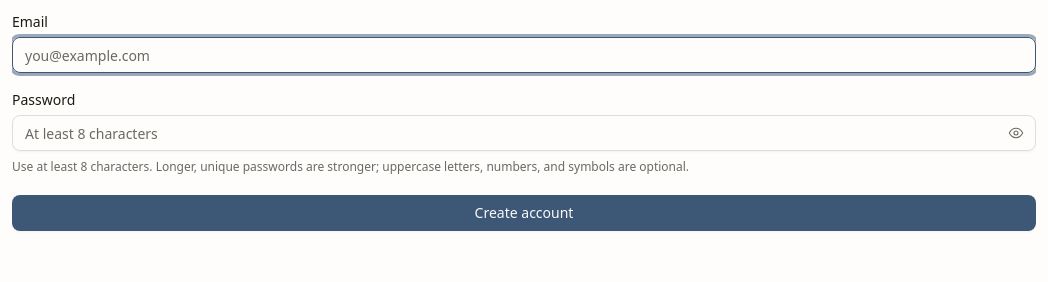
Test case: SignupForm › shows live password-strength feedback without imposing composition rules
The image size is (1048, 282).
Type "password" into the password field labelled "Password" at (524, 133), box top-left (12, 115), bottom-right (1036, 151)
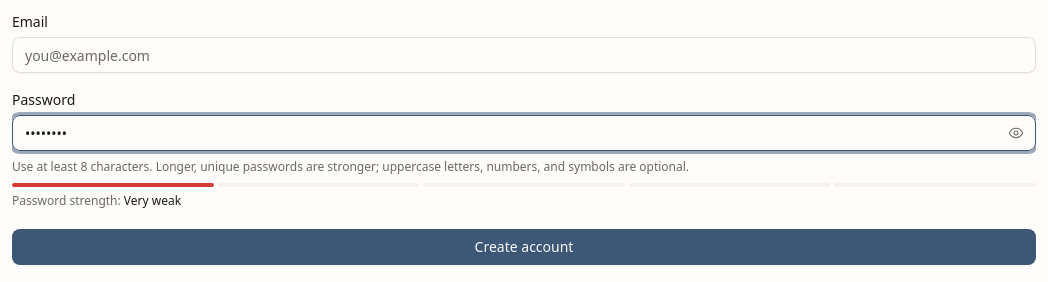
expect the element "Password strength: Very weak" is shown: met, box top-left (12, 183), bottom-right (1036, 209)
expect the text "Very weak" is shown: met, box top-left (124, 192), bottom-right (181, 209)
